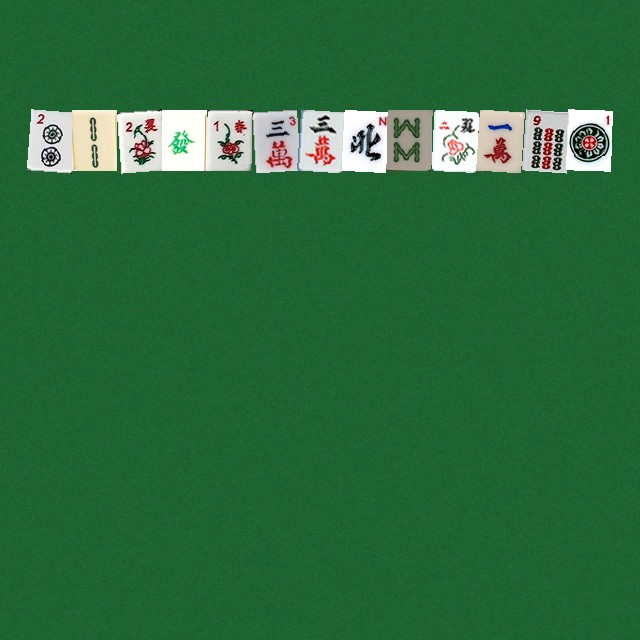tile: (26, 109, 71, 170), (71, 109, 116, 170), (116, 109, 161, 170), (161, 109, 206, 170), (206, 109, 251, 170), (251, 109, 296, 170), (296, 109, 341, 170), (341, 109, 386, 170), (386, 109, 431, 170), (431, 109, 476, 170), (476, 109, 521, 170), (521, 109, 566, 170), (566, 109, 611, 170)
